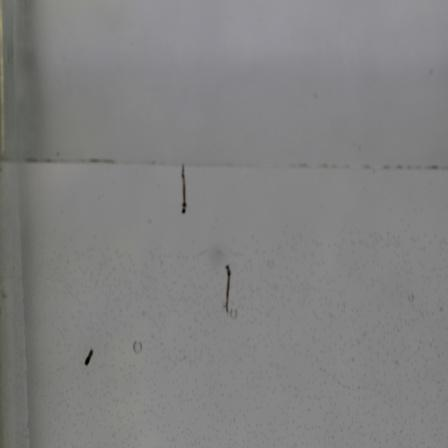Jentik-Nyamuk: (216, 262, 239, 315), (174, 162, 195, 218), (80, 343, 99, 369)
